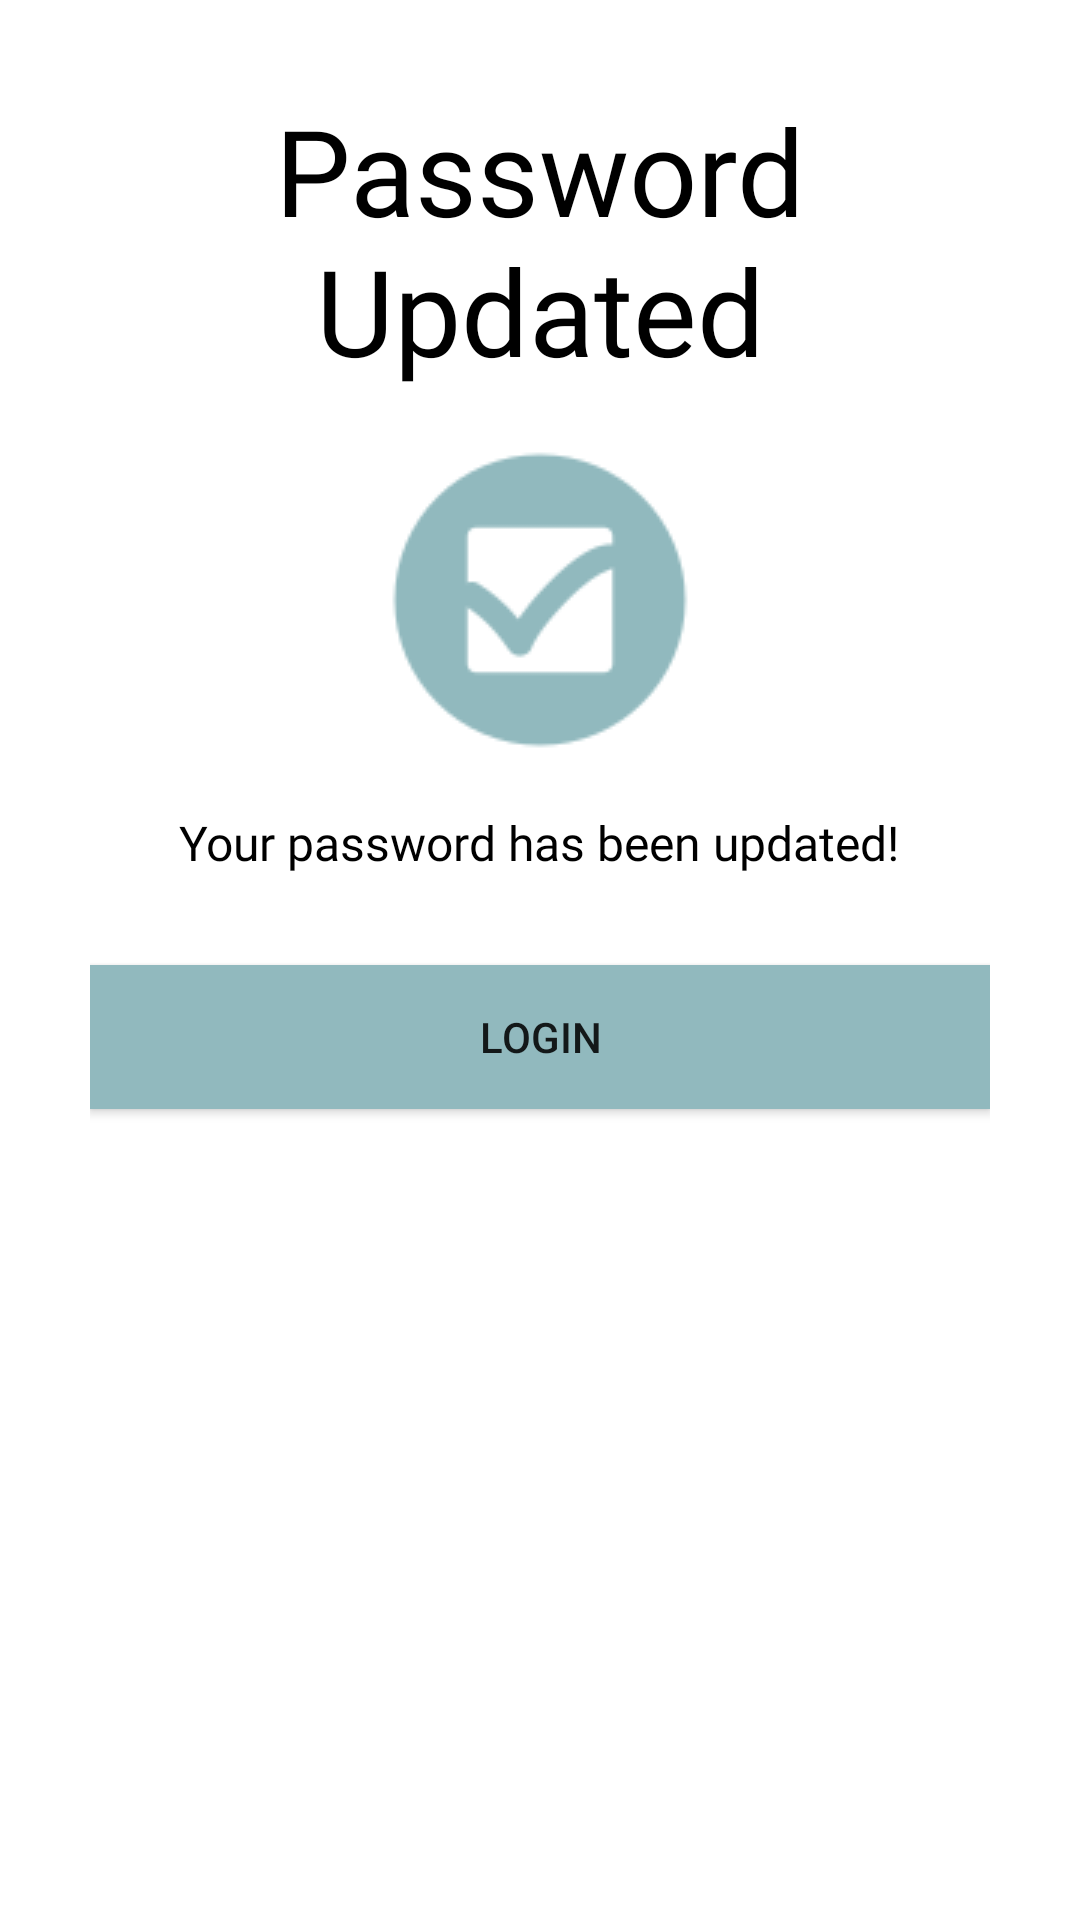

Icon bounding boxes for this 1080px x 1920px phone screenshot, format (x1, y1, x2, y2):
tick: (393, 453, 687, 747)
